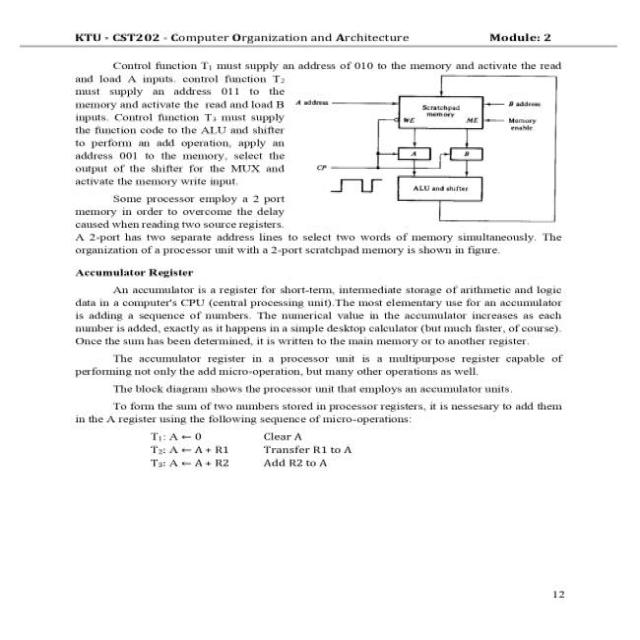Figure Detection - v3 Dataset Version2: (290, 70, 576, 228)
